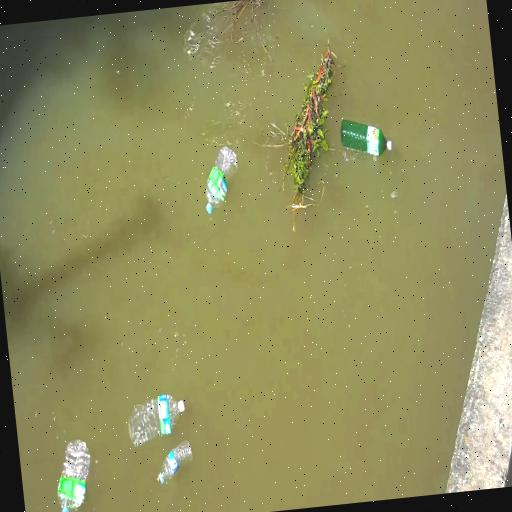plastic: (43, 432, 98, 512), (122, 386, 192, 448), (198, 146, 250, 226), (336, 108, 394, 168), (148, 437, 205, 491)
twig: (257, 38, 354, 212), (222, 0, 279, 39)
